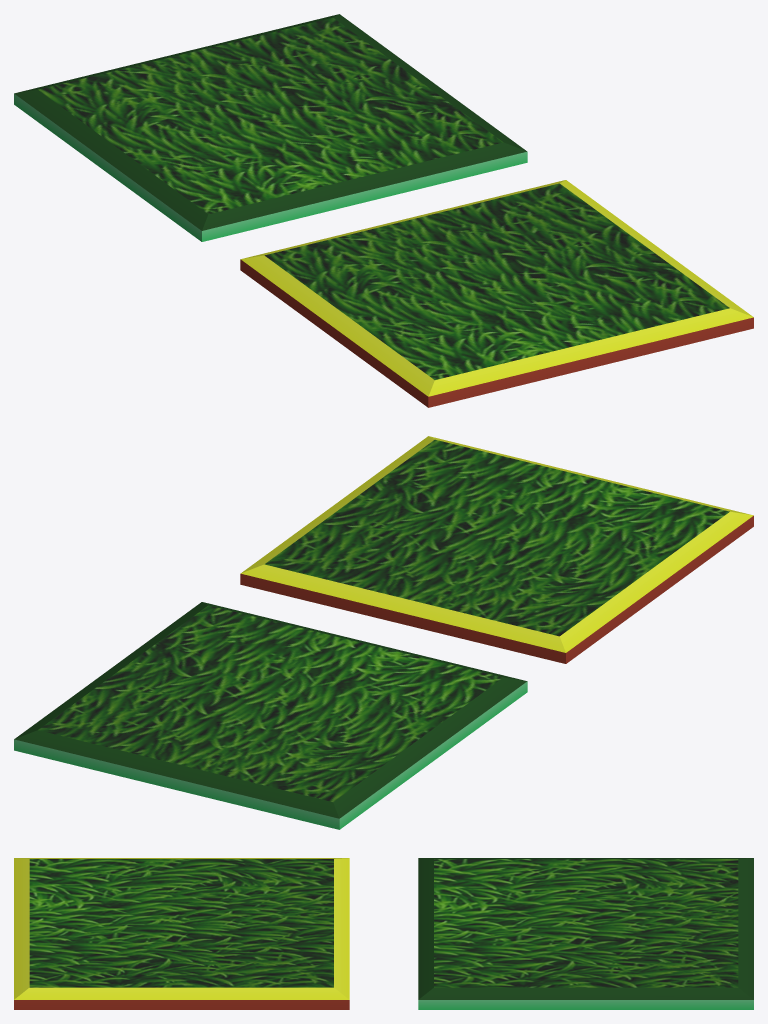
File: Baldosa.fbx
3 views of the same model, one above another, from view 1: azimuth 30°, elevation 25°; view 2: azimuth 150°, elevation 25°; view 3: azimuth 270°, elevation 25° (orthographic). The views are drawn at different scales.
Parts seen in each view (by area): view 1: pCube8, pCube8.001; view 2: pCube8, pCube8.001; view 3: pCube8, pCube8.001.
Boxes of the visible parts, box(x1,y1,x2,y2) form: pCube8: box(14, 14, 527, 241); pCube8.001: box(240, 180, 753, 407); pCube8: box(14, 602, 527, 829); pCube8.001: box(240, 436, 753, 663); pCube8: box(418, 858, 753, 1009); pCube8.001: box(14, 858, 349, 1009).
Bounding box in the file's own units: 200 × 10.35 × 441.
